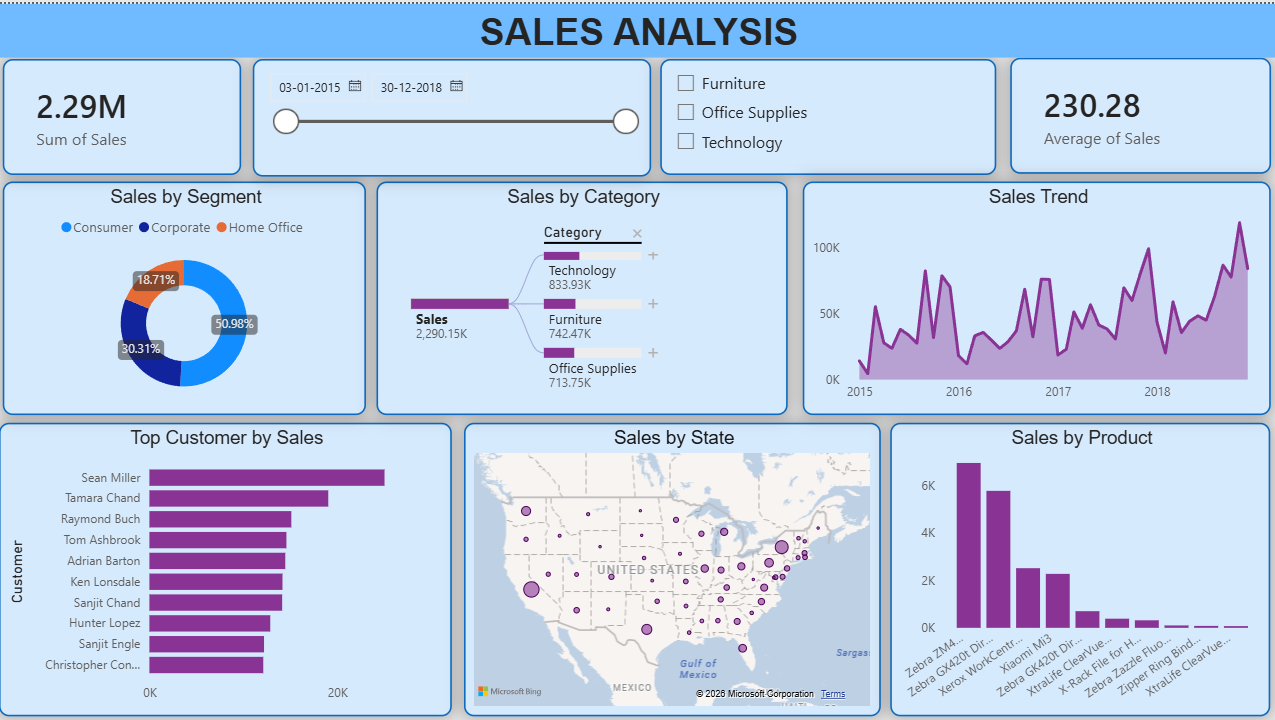

The dashboard page shown, as its layout file describes it:
{"tool":"powerbi","page":{"name":"Page 1","canvas":[1280,720],"ordinal":0},"visuals":[{"type":"barChart","title":"Top Customer by Sales","fields":{"Category":["prj salestore.cus_name"],"Y":["Sum(prj salestore.Sales)"]},"box":[0,418.2,452.4,293.5],"z":0},{"type":"map","title":"Sales by State","fields":{"Category":["prj salestore.State"],"Size":["Sum(prj salestore.Sales)"]},"box":[464.7,418.2,417,293.5],"z":1000},{"type":"columnChart","fields":{"Category":["prj salestore.product_name"],"Y":["Sum(prj salestore.Sales)"]},"box":[891.4,418.2,380.3,293.5],"z":2000},{"type":"donutChart","fields":{"Y":["Sum(prj salestore.Sales)"],"Category":["prj salestore.Segment"]},"box":[3.7,177.3,363.2,233.6],"z":3000},{"type":"decompositionTreeVisual","title":"Sales by Category","fields":{"Analyze":["Sum(prj salestore.Sales)"],"ExplainBy":["prj salestore.Category","prj salestore.sub_category"]},"box":[377.9,177.3,410.9,233.6],"z":4000},{"type":"cardVisual","fields":{"Data":["Sum(prj salestore.Sales)"]},"box":[3.7,55,238.5,116.2],"z":5000},{"type":"cardVisual","fields":{"Data":["Avg(prj salestore.Sales)"]},"box":[1011.3,53.8,260.5,116.2],"z":6000},{"type":"slicer","fields":{"Values":["prj salestore.order_date"]},"box":[253.1,55,398.6,117.4],"z":7000},{"type":"slicer","fields":{"Values":["prj salestore.Category"]},"box":[661.6,55,336.3,116.2],"z":8000},{"type":"lineChart","title":"Sales Trend","fields":{"Y":["Sum(prj salestore.Sales)"],"Category":["prj salestore.order_date.Variation.Date Hierarchy.Year","prj salestore.order_date.Variation.Date Hierarchy.Quarter","prj salestore.order_date.Variation.Date Hierarchy.Month"]},"box":[803.4,177.3,468.3,233.6],"z":9000},{"type":"textbox","box":[0,0,1280.3,53.8],"z":10000}]}

Visuals, with their boxes in screenshot pixels (x1, y1, x2, y2), scaled from the page's 1280x720 canvas onto the 1275x720 screenshot:
"Top Customer by Sales" barChart: 0, 418, 451, 712
"Sales by State" map: 463, 418, 878, 712
columnChart - prj salestore.product_name x Sum(prj salestore.Sales): 888, 418, 1267, 712
donutChart - Sum(prj salestore.Sales) x prj salestore.Segment: 4, 177, 365, 411
"Sales by Category" decompositionTreeVisual: 376, 177, 786, 411
cardVisual - Sum(prj salestore.Sales): 4, 55, 241, 171
cardVisual - Avg(prj salestore.Sales): 1007, 54, 1267, 170
slicer - prj salestore.order_date: 252, 55, 649, 172
slicer - prj salestore.Category: 659, 55, 994, 171
"Sales Trend" lineChart: 800, 177, 1267, 411
textbox: 0, 0, 1274, 54
